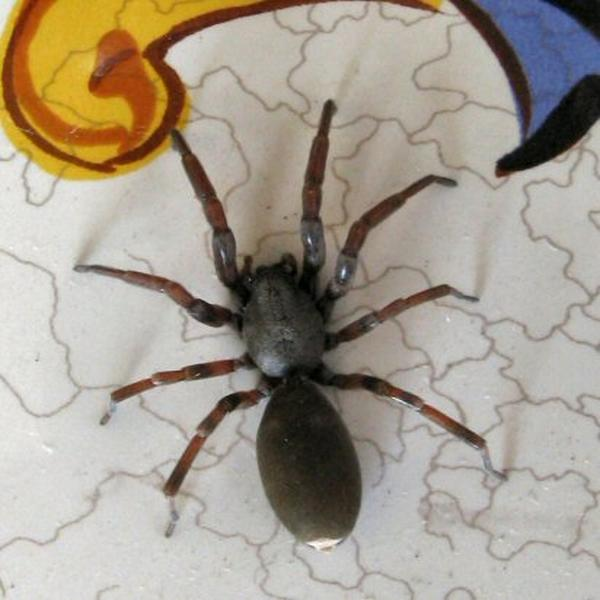White-Tailed Spider: (101, 126, 492, 559)
